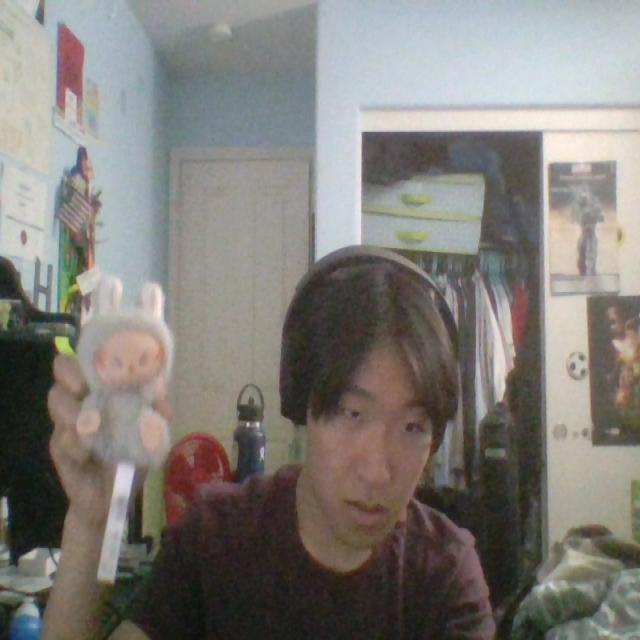labubu: (76, 271, 174, 467)
